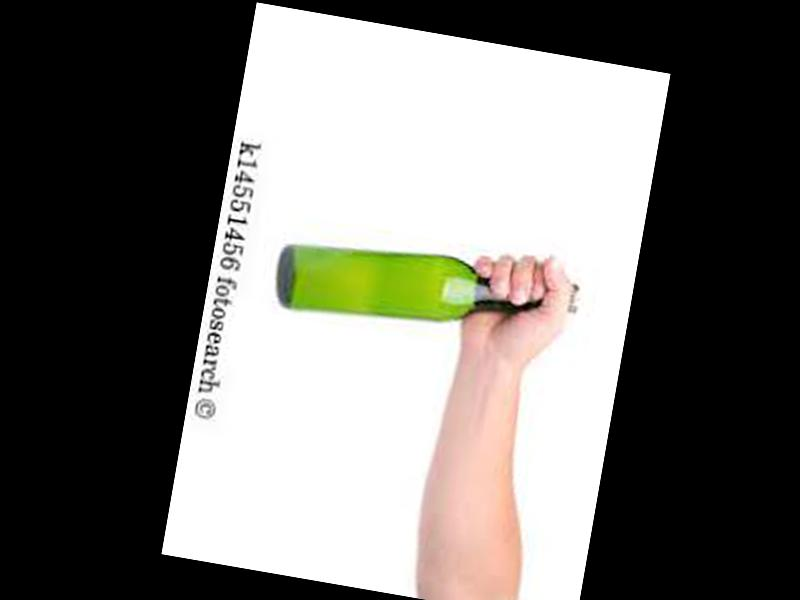Beer: (270, 228, 580, 358)
